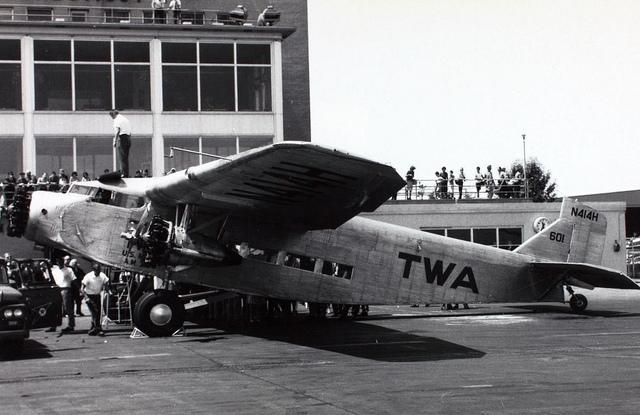truck: (1, 258, 62, 352)
